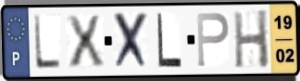H: (231, 8, 271, 70)
L: (32, 14, 63, 72), (155, 11, 183, 70)
P: (195, 11, 231, 69)
X: (112, 10, 151, 73), (64, 14, 107, 70)
